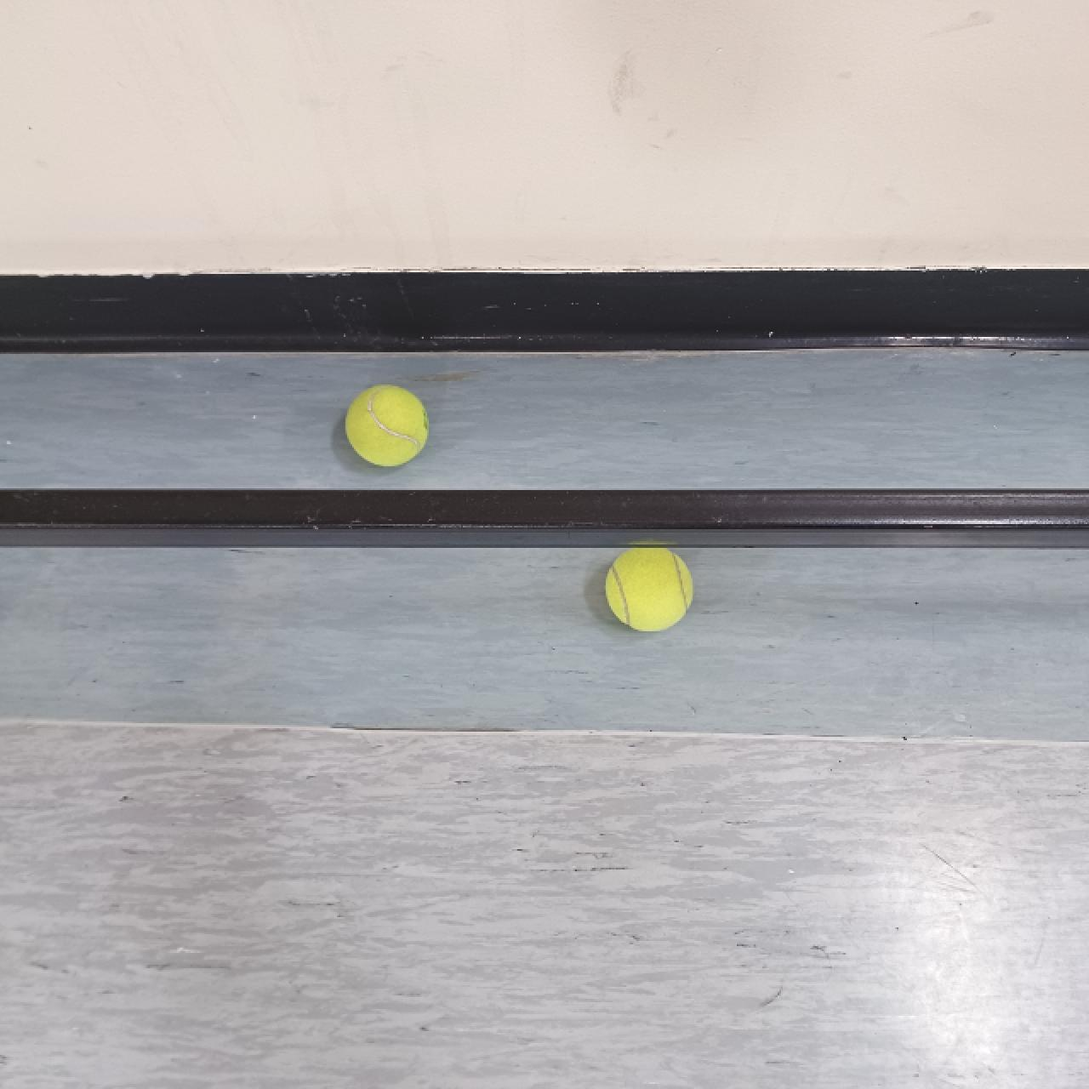tennis-ball: (605, 542, 698, 634), (344, 382, 432, 472)
